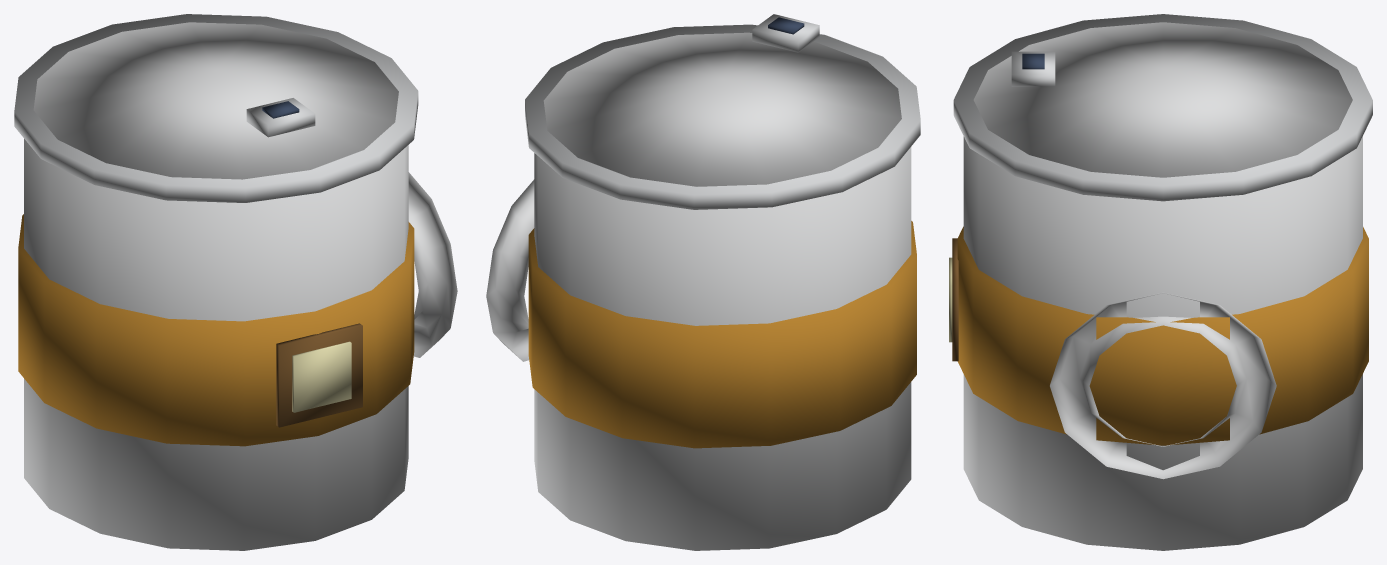
Rendered from coffee-cup.glb.
3 renders of one model, left to right at view 1: azimuth 30°, elevation 25°; view 2: azimuth 150°, elevation 25°; view 3: azimuth 270°, elevation 25°, orthographic. The views are drawn at different scales.
Visible parts, largest first — view 1: world; view 2: world; view 3: world.
Part boxes in pixels (x1,y1,x2,y2): world: [14, 14, 457, 550]; world: [486, 14, 920, 550]; world: [949, 14, 1372, 550].
Size of the model in its own units: 3.8 by 4.2 by 3.8.
